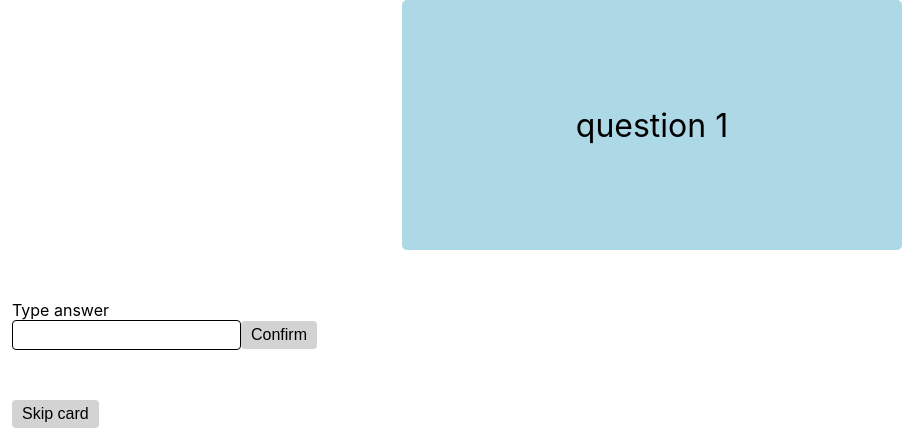
Scenario: AppPracticing › skipping card keeps it in the deck
Click the button "Skip card": {"x": 55, "y": 414} [12, 400, 99, 428]
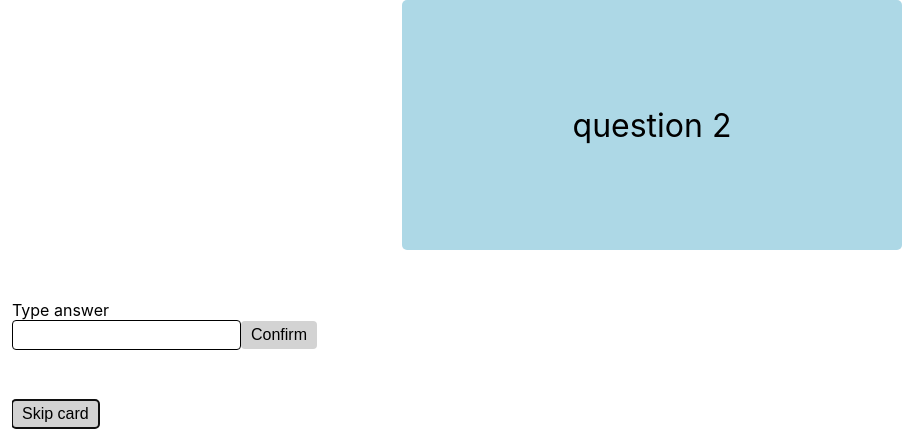
Click the button "Skip card": {"x": 55, "y": 414} [12, 400, 99, 428]
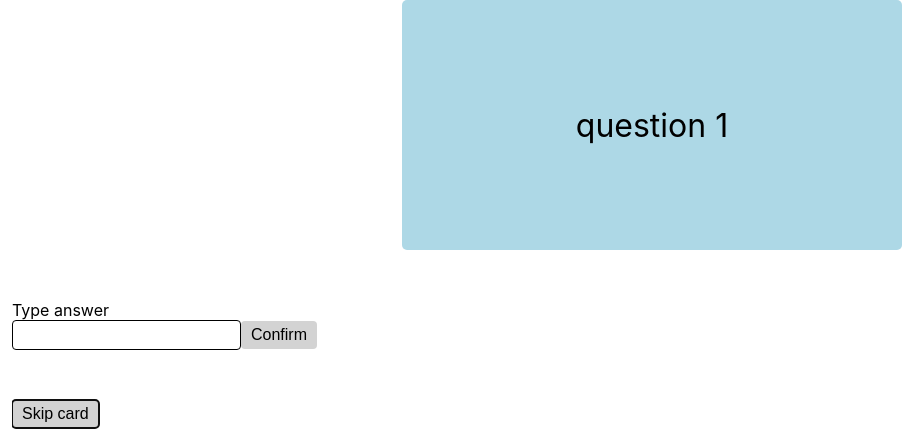
Check: the text "question 1" is shown, box [402, 0, 902, 250]
